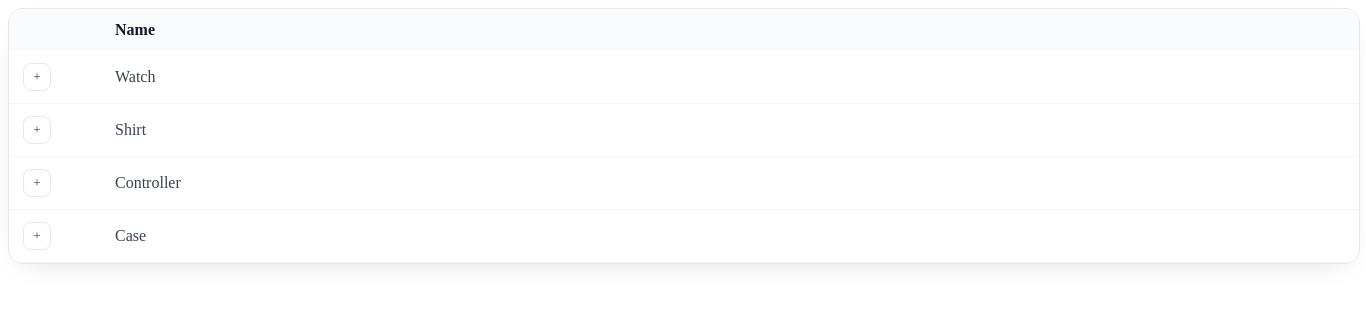
DataTable › expands and collapses rows with the expander column
The width and height of the screenshot is (1366, 336).
expect the text "Details for Watch" is not shown: met
Click the button named "Expand row".
click(37, 77)  # box top-left (23, 63), bottom-right (51, 91)
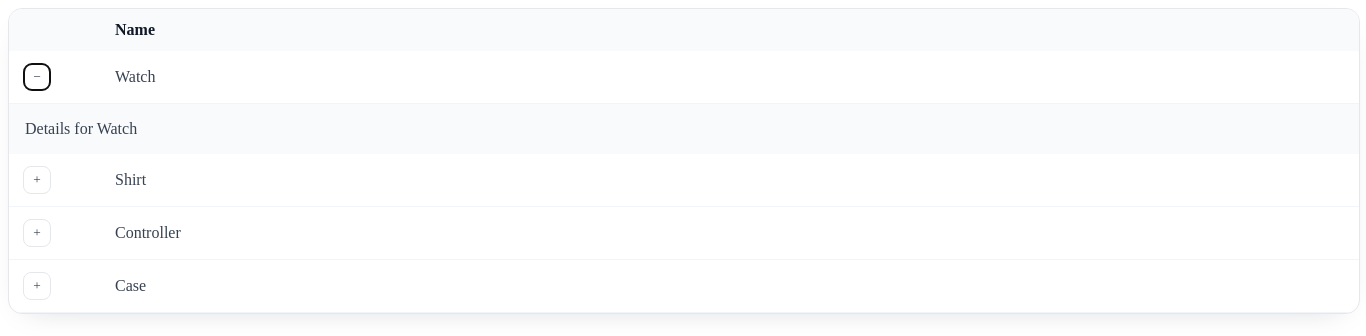
expect the text "Details for Watch" is shown: met, box top-left (25, 120), bottom-right (137, 137)
Click the button named "Collapse row".
click(37, 77)  # box top-left (23, 63), bottom-right (51, 91)
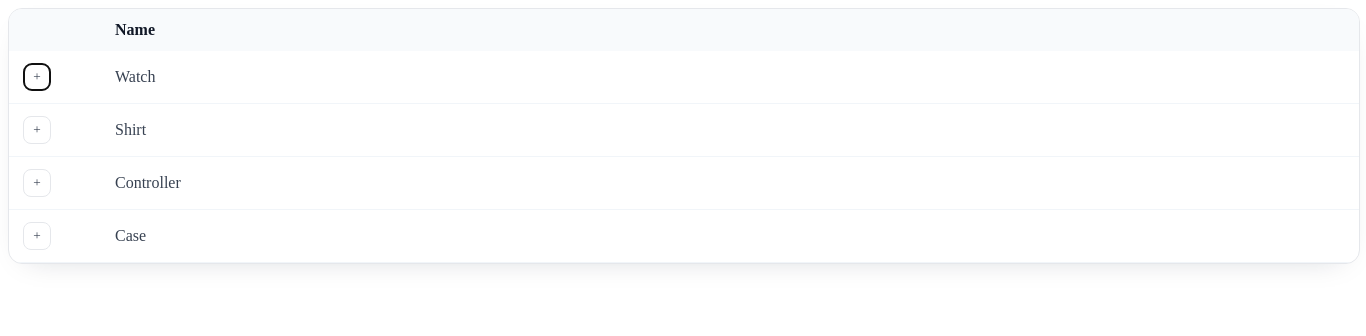
expect the text "Details for Watch" is gone: met
